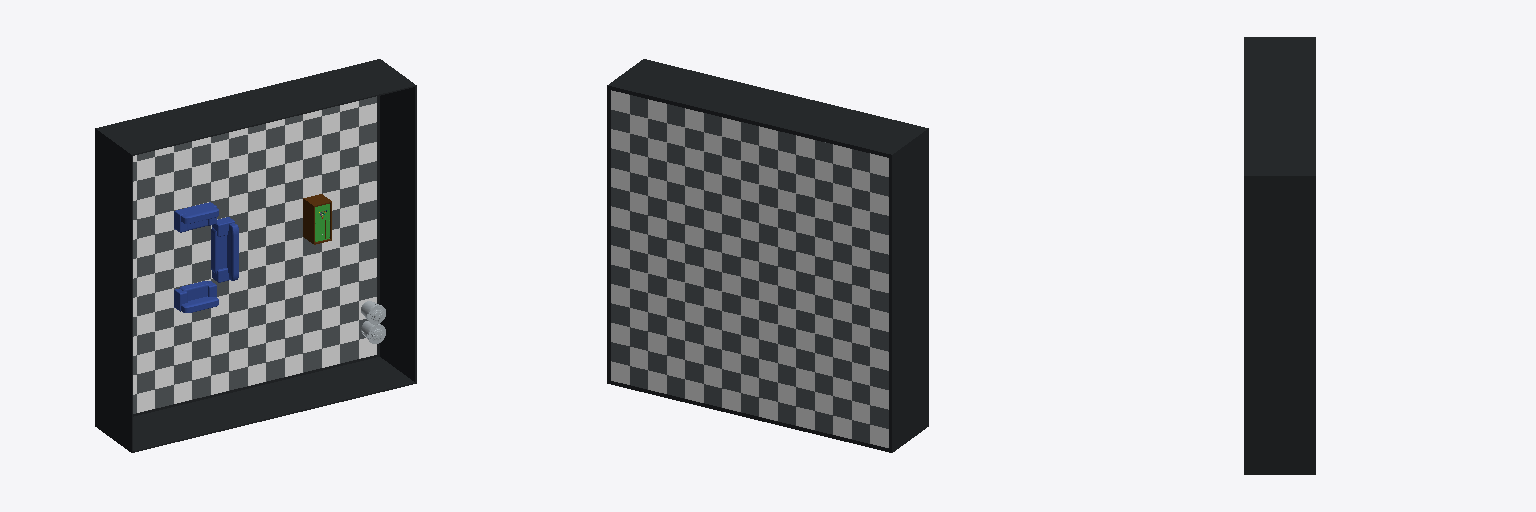
File: living.obj
The picture shows the model from 3 angles: view 1: azimuth 30°, elevation 25°; view 2: azimuth 150°, elevation 25°; view 3: azimuth 270°, elevation 25°; orthographic projection.
Parts seen in each view (by area): view 1: obj_0; view 2: obj_0; view 3: obj_0.
Part boxes in pixels (bbox=[...]): obj_0: bbox=[95, 59, 416, 452]; obj_0: bbox=[607, 59, 928, 452]; obj_0: bbox=[1244, 37, 1315, 474].
Bounding box in the file's own units: 231 × 231 × 51.